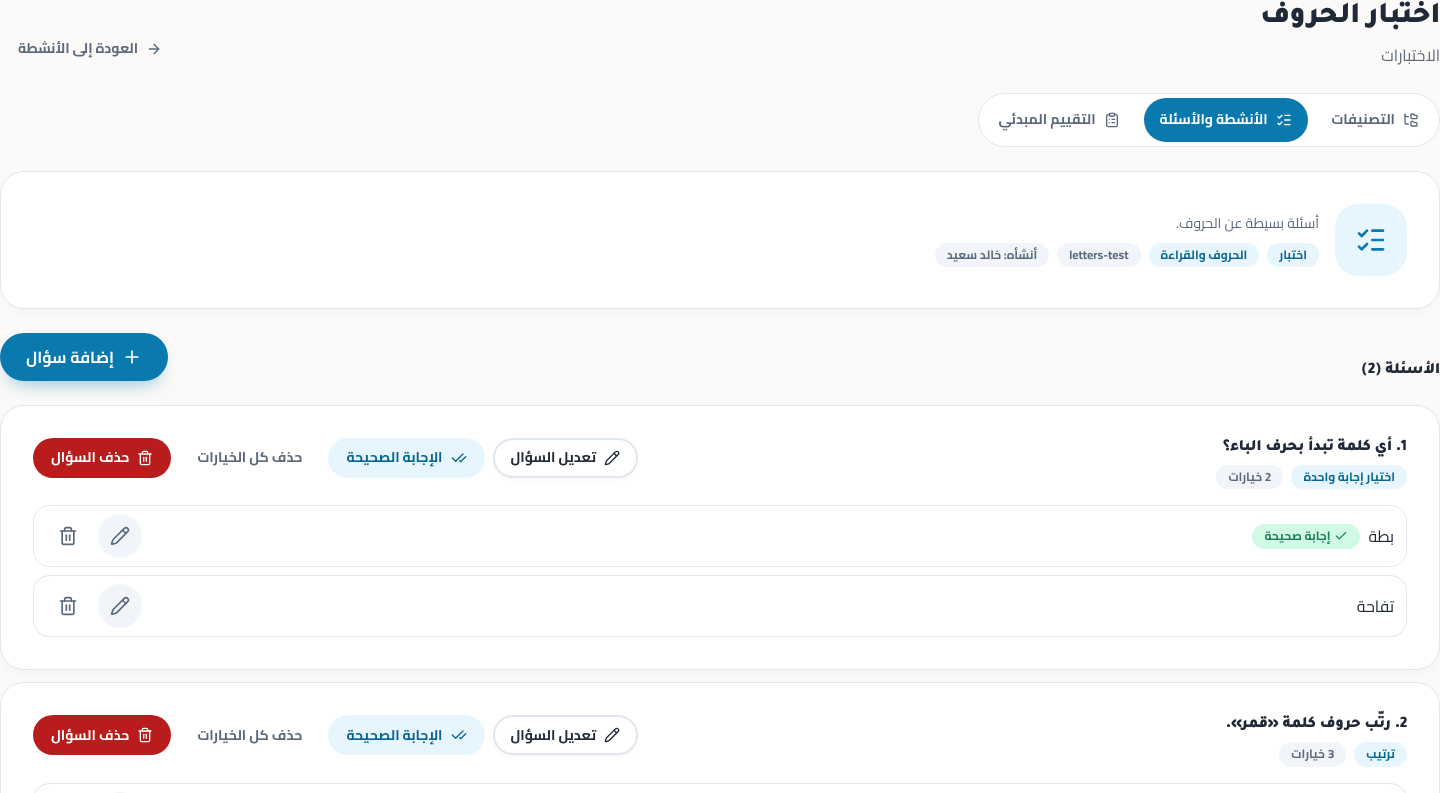
ActivityDetailPage › edits the question text
Expected: the heading "الأسئلة (2)" is shown, [1361, 361, 1439, 381]
Click the button "تعديل السؤال" in the row of "1. أي كلمة تبدأ بحرف الباء؟": [565, 458] box [492, 438, 638, 478]
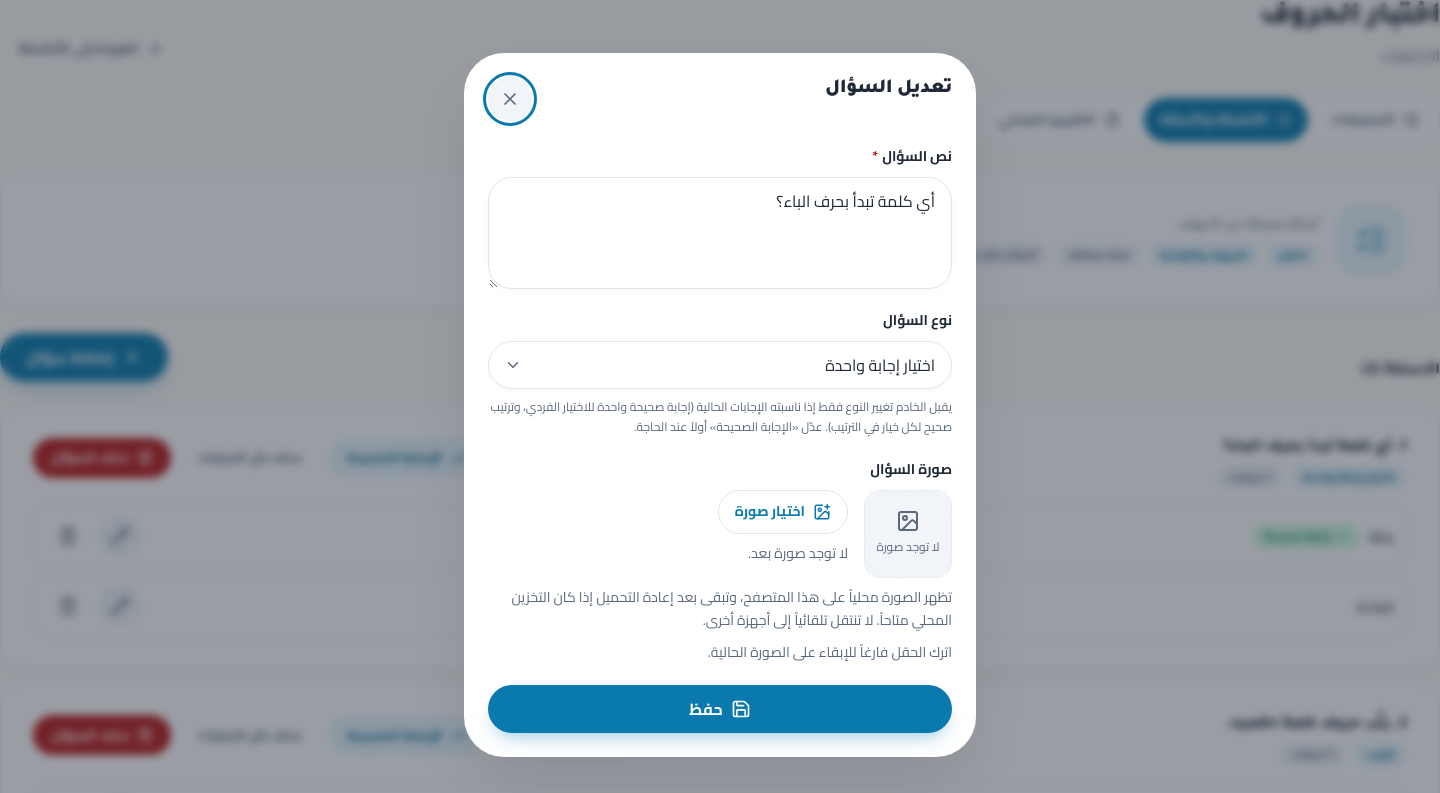
Replace the text in the text box labelled "نص السؤال*" with "سؤال معدّل": [720, 233] box [488, 177, 952, 289]
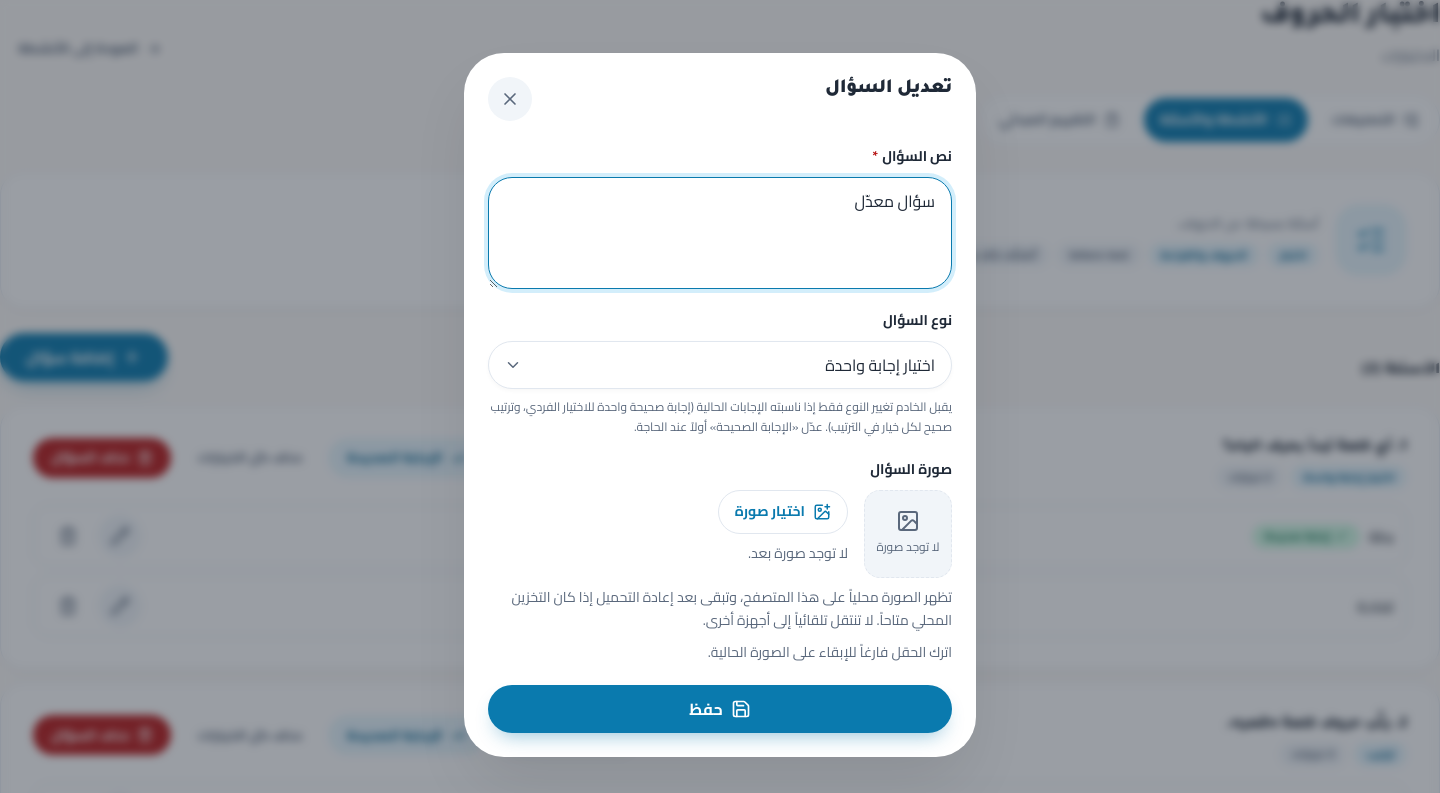
Click the button "حفظ": [720, 709] box [488, 685, 952, 733]
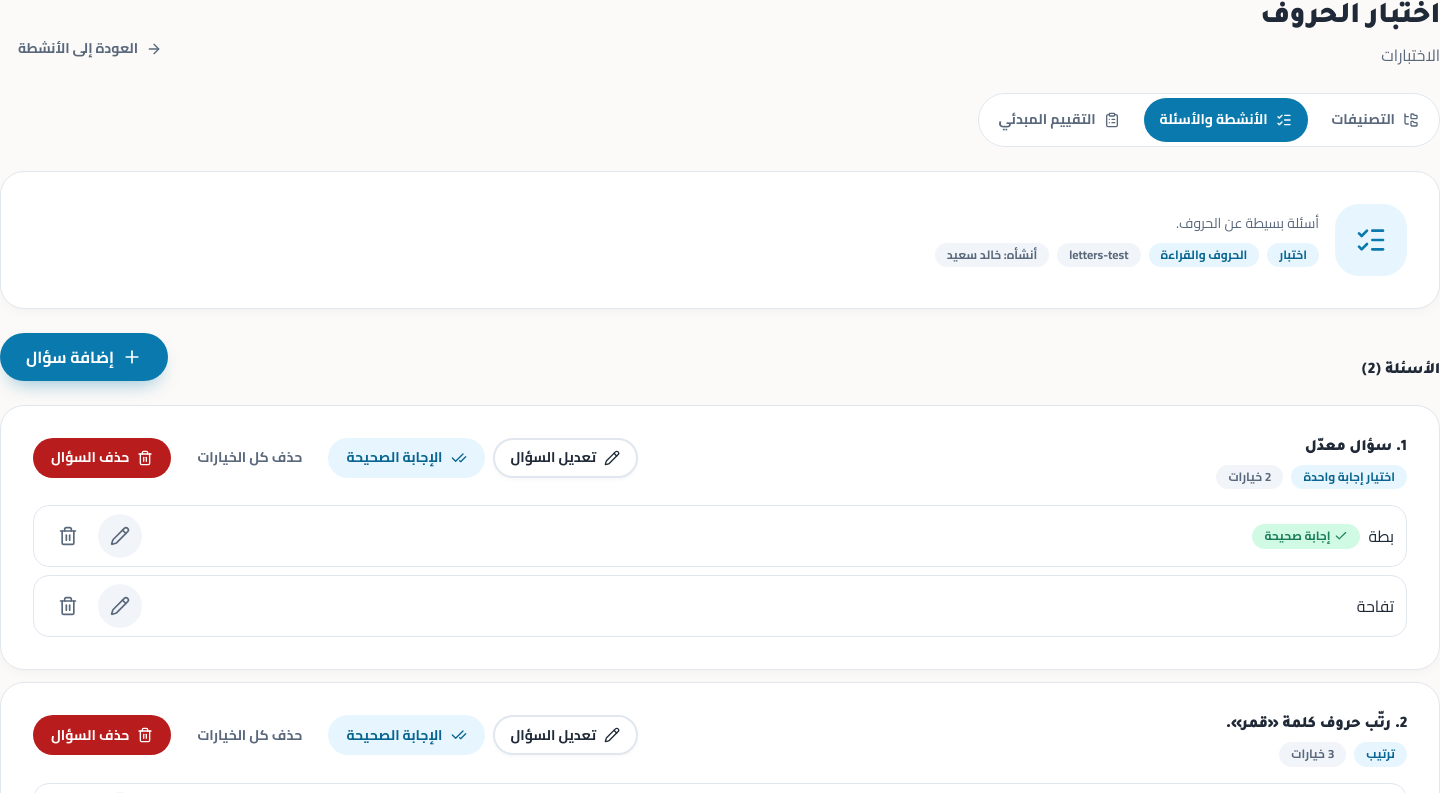
Expected: the heading "1. سؤال معدّل" is shown, [1305, 440, 1407, 456]
